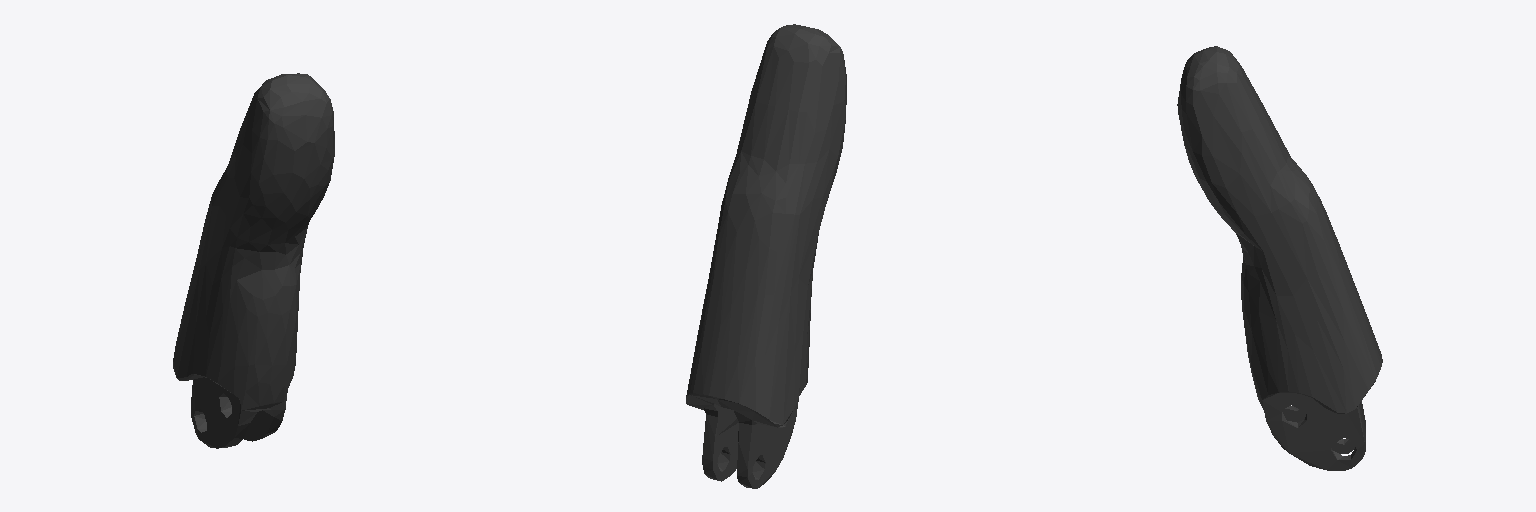
File: R_index_distal.obj
The picture shows the model from 3 angles: view 1: azimuth 30°, elevation 25°; view 2: azimuth 150°, elevation 25°; view 3: azimuth 270°, elevation 25°; orthographic projection.
Size of the model in its own units: 0.0126 by 0.0512 by 0.0233.